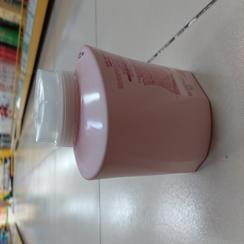sunsilk pink: (33, 43, 212, 184)
